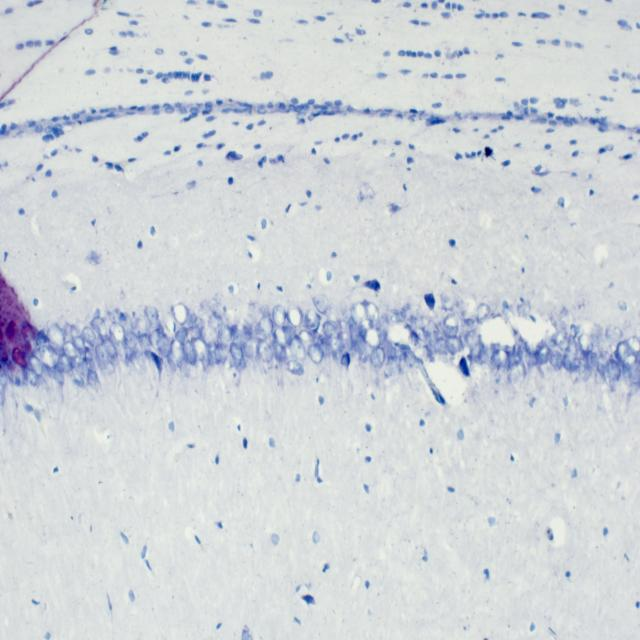neuron: (563, 334, 581, 372), (167, 339, 184, 370), (6, 362, 26, 388), (38, 344, 58, 370), (48, 323, 66, 351), (130, 311, 148, 338), (272, 324, 294, 346), (70, 324, 86, 354), (229, 324, 251, 344), (362, 327, 382, 349), (256, 338, 274, 362), (298, 329, 314, 356), (350, 302, 368, 326), (290, 335, 306, 361), (90, 316, 108, 339), (200, 325, 218, 348), (172, 302, 189, 326), (191, 337, 207, 362), (305, 309, 321, 334), (329, 332, 345, 357), (605, 358, 621, 383), (491, 348, 510, 369), (46, 364, 64, 386), (282, 358, 304, 376), (257, 315, 274, 338), (149, 325, 164, 351), (306, 343, 324, 364), (108, 321, 125, 343), (28, 354, 44, 377), (86, 348, 102, 371), (287, 305, 303, 328), (578, 334, 594, 357), (133, 341, 146, 369), (184, 339, 197, 367), (315, 334, 330, 358), (422, 321, 440, 341), (475, 302, 490, 326), (312, 293, 329, 314), (95, 342, 109, 367), (272, 340, 287, 363), (370, 346, 385, 369), (443, 314, 458, 337), (383, 358, 402, 376), (62, 340, 79, 360), (56, 353, 72, 374), (144, 305, 160, 326), (158, 333, 172, 357), (365, 301, 380, 323), (357, 318, 374, 337), (87, 368, 101, 391), (102, 336, 116, 359), (244, 337, 258, 360), (272, 304, 286, 327), (80, 326, 96, 346), (535, 344, 551, 364), (115, 340, 128, 364), (550, 346, 563, 370), (440, 288, 454, 310), (605, 324, 622, 342), (207, 313, 222, 333), (464, 329, 479, 349), (469, 342, 482, 365), (71, 354, 85, 375), (322, 320, 338, 338), (208, 342, 221, 364), (446, 336, 461, 355), (124, 330, 138, 350), (214, 343, 228, 363), (615, 339, 627, 362), (230, 341, 243, 362), (433, 336, 448, 354), (24, 368, 38, 387), (627, 335, 640, 355), (218, 326, 232, 344), (622, 354, 637, 370), (187, 324, 201, 341), (554, 329, 568, 345), (176, 326, 188, 344), (404, 350, 416, 368), (73, 373, 85, 388), (588, 352, 598, 370), (0, 365, 7, 388), (618, 299, 627, 312)
